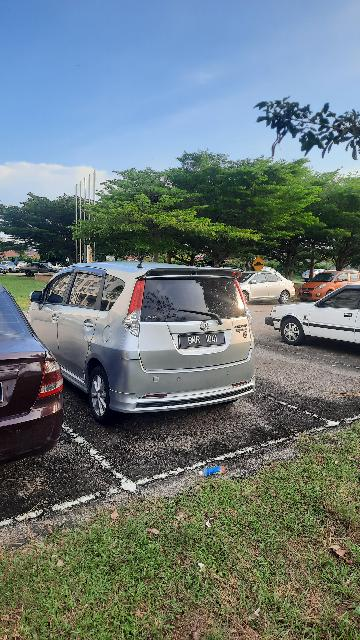License_Plate: (178, 326, 233, 352)
car: (33, 260, 261, 418), (1, 286, 69, 469), (270, 280, 360, 350)
